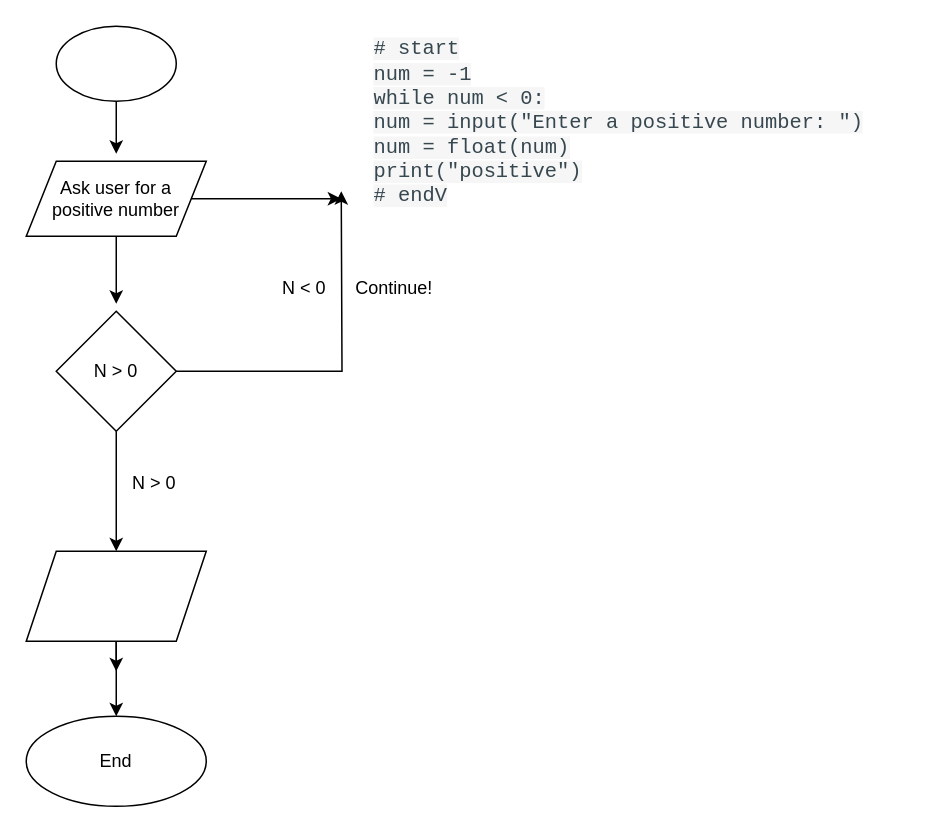
This 938x833 diagram has some shape labels left out. Here are the shapes that lost their labels. From the top down, the box of each, then its label:
(55, 25, 176, 101): Start
(25, 550, 206, 641): Break! Print “Positive”
